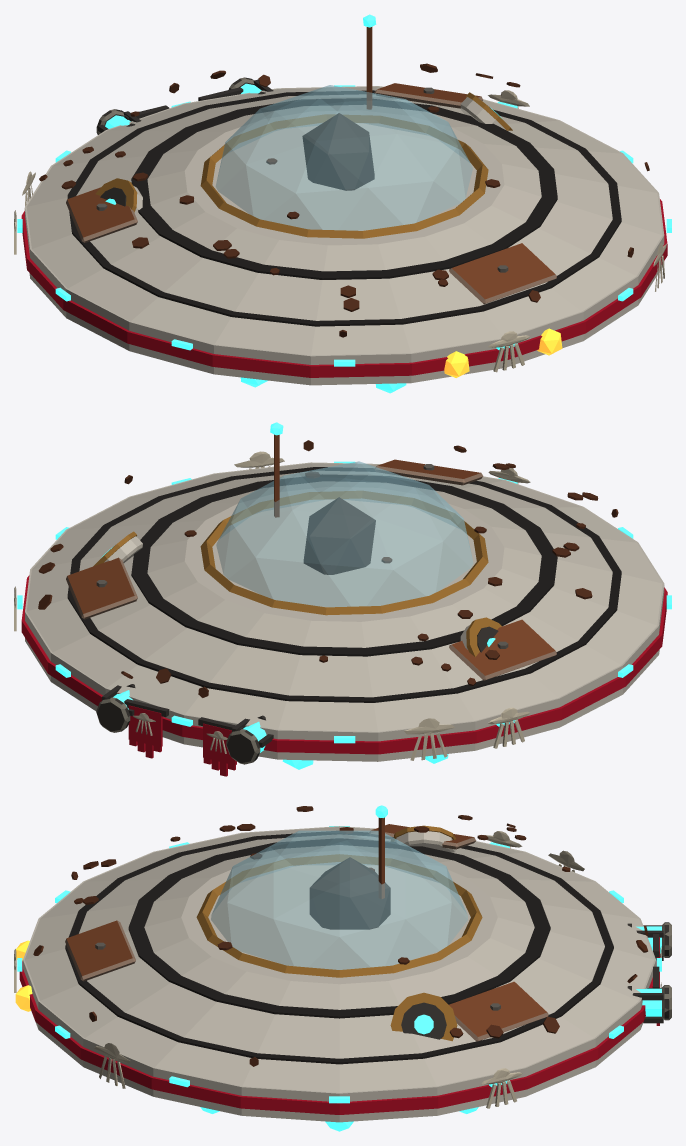
File: s_grey_saucer.glb
The picture shows the model from 3 angles, top to bottom: view 1: azimuth 30°, elevation 25°; view 2: azimuth 150°, elevation 25°; view 3: azimuth 270°, elevation 25°; orthographic projection.
Visible parts, largest first — view 1: s_grey_saucer; view 2: s_grey_saucer; view 3: s_grey_saucer.
Boxes of the visible parts, left/top/right/bottom form: s_grey_saucer: left=14, top=14, right=671, bottom=393; s_grey_saucer: left=14, top=422, right=671, bottom=776; s_grey_saucer: left=14, top=805, right=671, bottom=1131.
Size of the model in its own units: 6.11 by 2.72 by 6.24.
